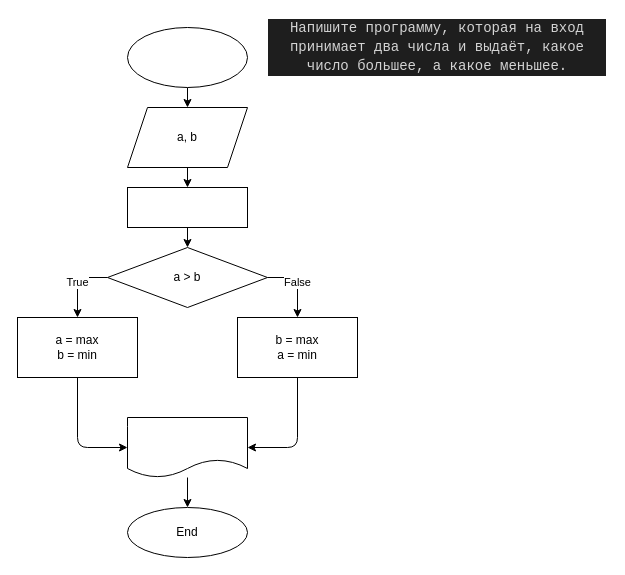
Image size: 625x575. Some labels were removed from this diagram. The box of each missing label's shape, as (x1, y1, x2, y2) in pixels:
min max: (126, 186, 248, 228)
Print max, min: (126, 416, 248, 478)
Start: (126, 26, 248, 88)
